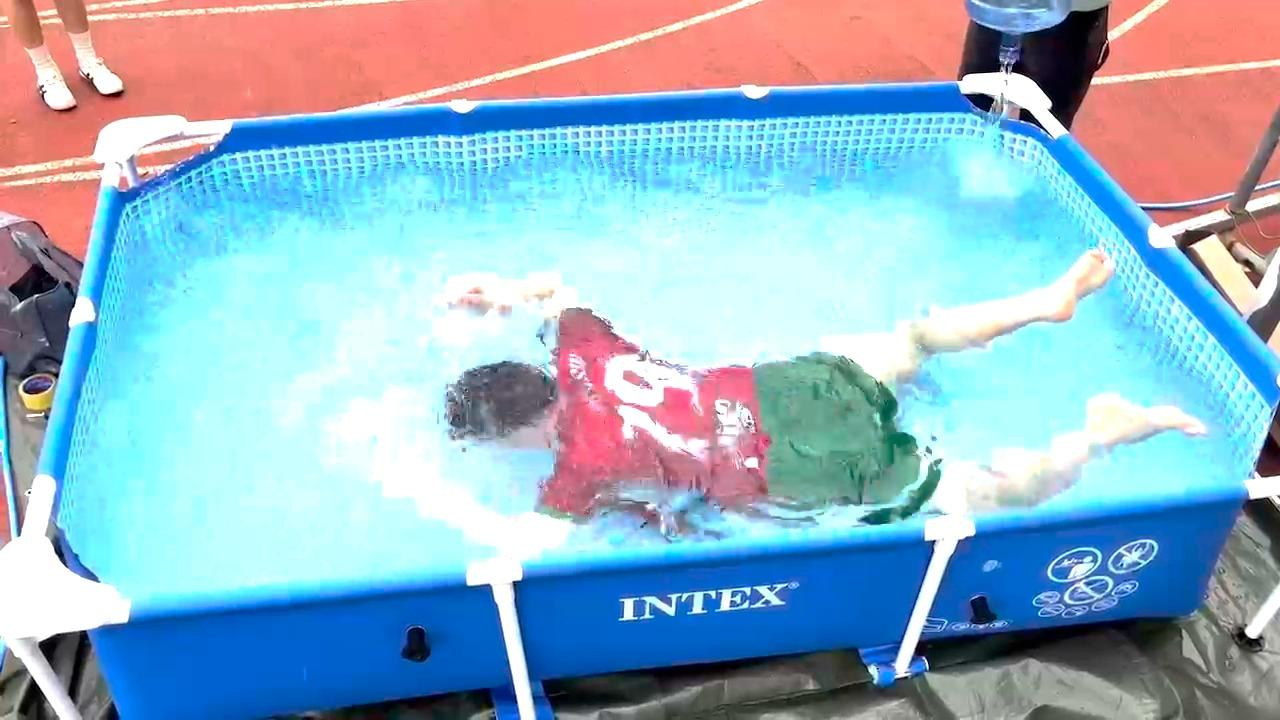Drowning: (340, 252, 1230, 492)
